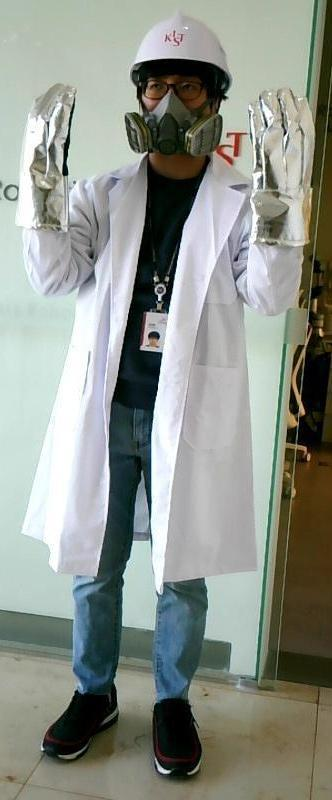lab_coat: (63, 177, 247, 571)
